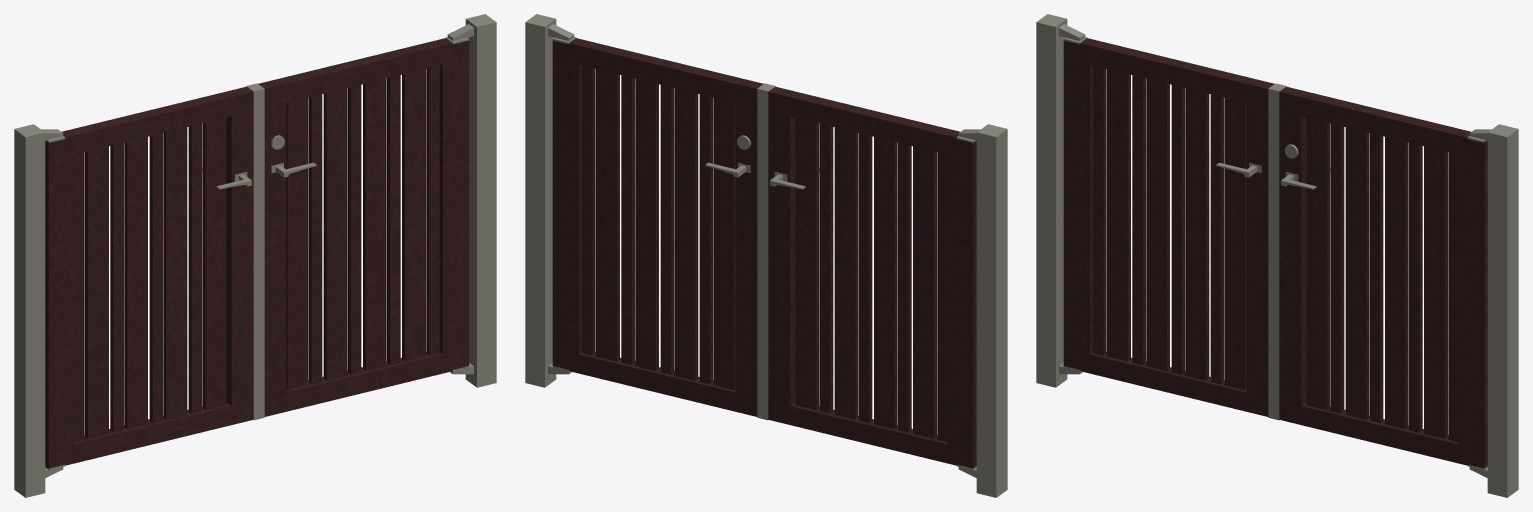
File: awmonpi2-40-80tate_h1200-w800-800_rustycopper.fbx
The picture shows the model from 3 angles, left to right: view 1: azimuth 30°, elevation 25°; view 2: azimuth 150°, elevation 25°; view 3: azimuth 330°, elevation 25°; orthographic projection.
Parts seen in each view (by area): view 1: awmonpi2-40-80tate_h1200-w800-800_chacoalgray.004; view 2: awmonpi2-40-80tate_h1200-w800-800_chacoalgray.004; view 3: awmonpi2-40-80tate_h1200-w800-800_chacoalgray.004.
Part boxes in pixels (left/top/right/bottom): awmonpi2-40-80tate_h1200-w800-800_chacoalgray.004: left=14, top=14, right=496, bottom=497; awmonpi2-40-80tate_h1200-w800-800_chacoalgray.004: left=525, top=14, right=1007, bottom=497; awmonpi2-40-80tate_h1200-w800-800_chacoalgray.004: left=1036, top=14, right=1518, bottom=497.
Bounding box in the file's own units: 180 × 132 × 16.7.
2 materials, 2 textured.
